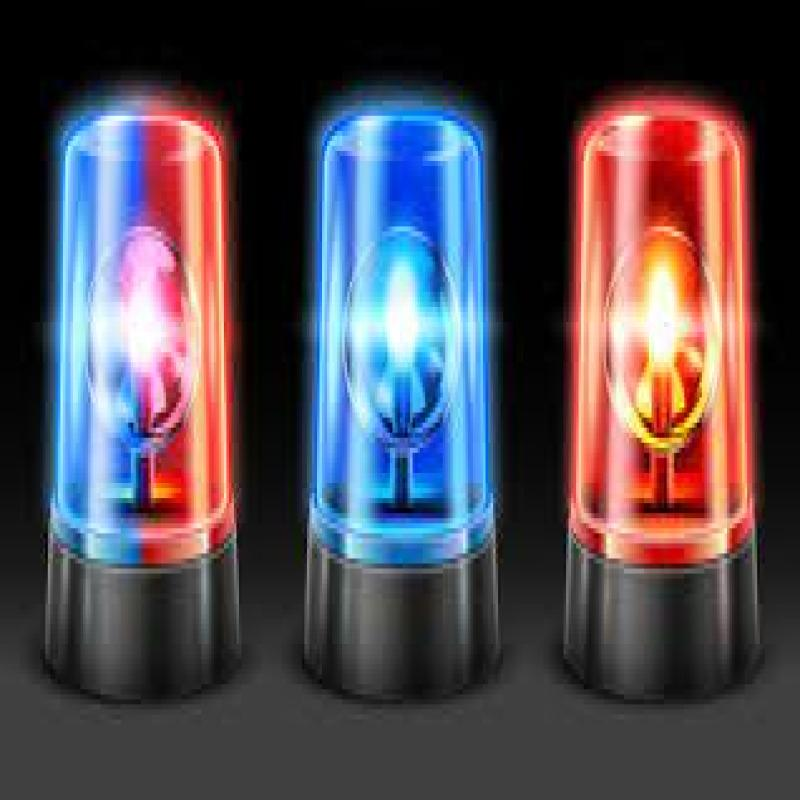AmbulanceSiren: (557, 47, 767, 695), (33, 68, 253, 670), (312, 78, 508, 740)
